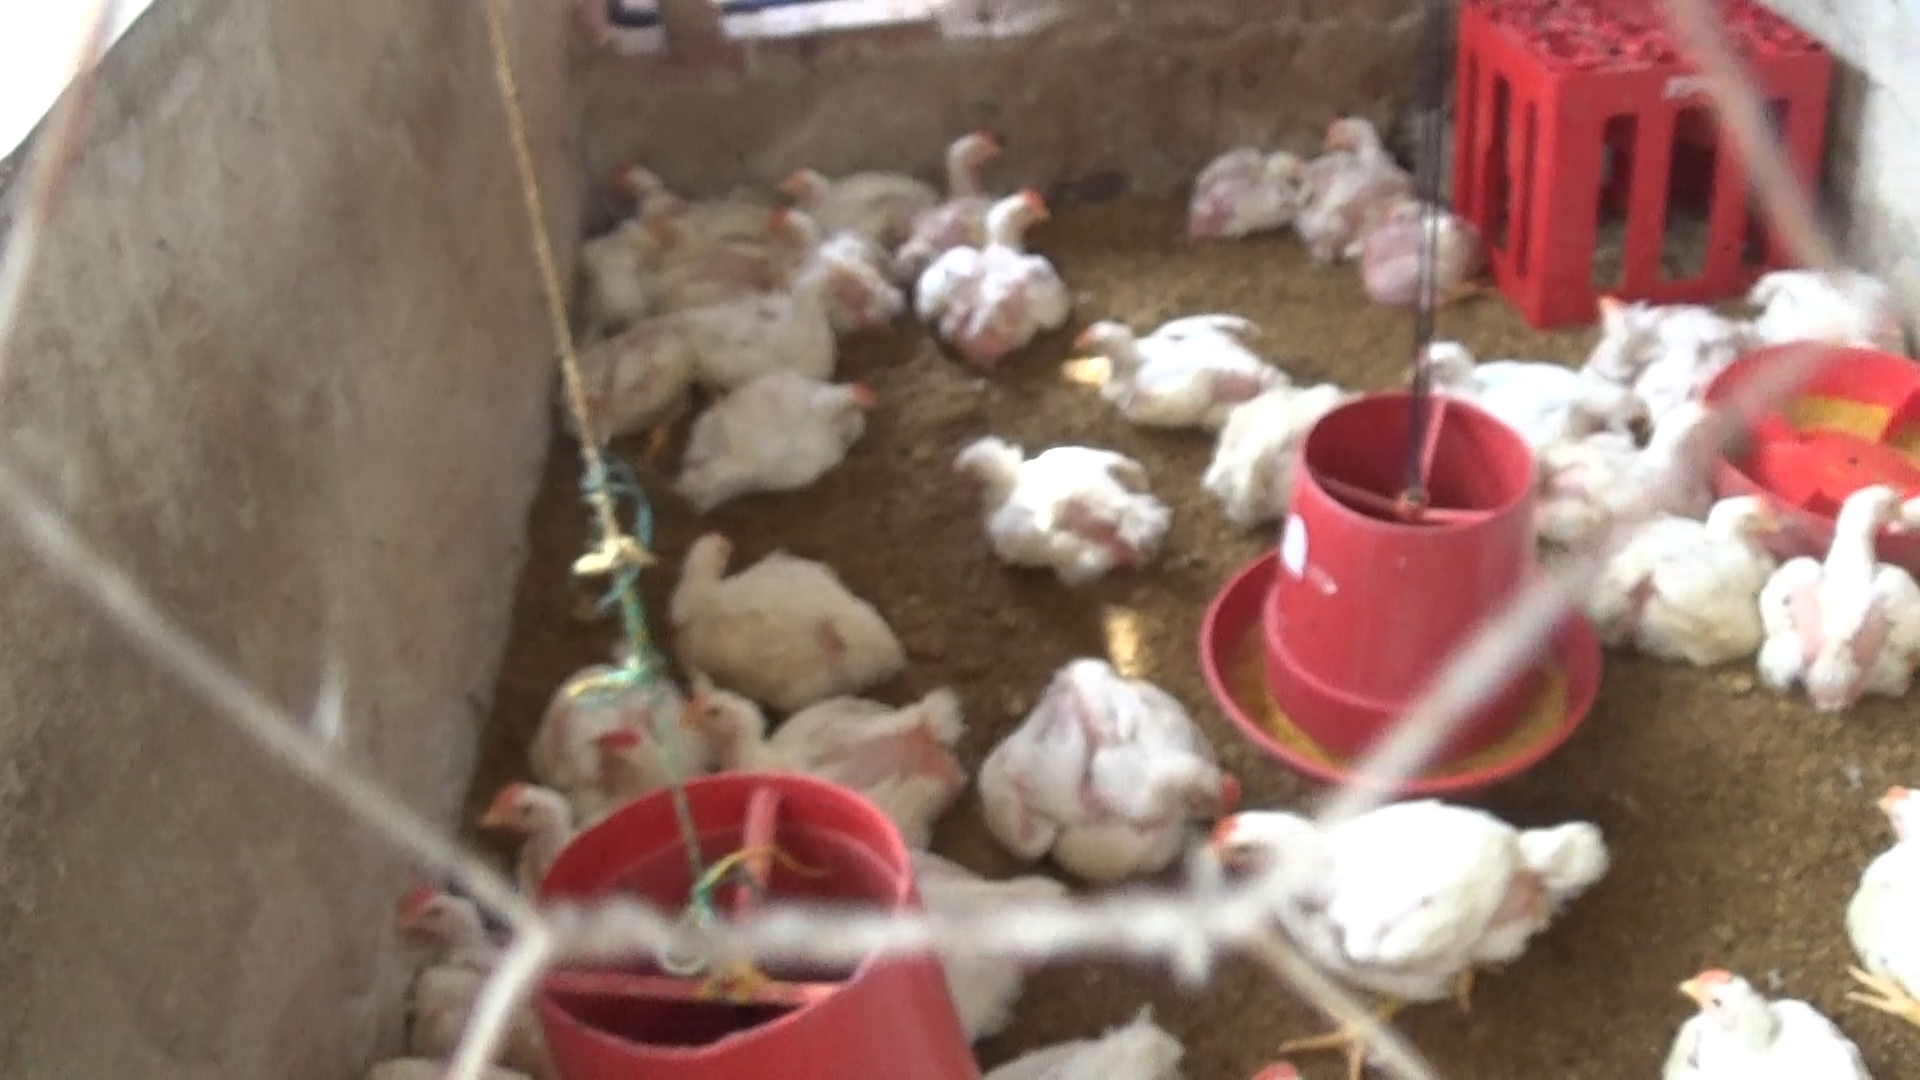Pollos: (1187, 775, 1613, 1080), (975, 640, 1253, 882), (662, 658, 988, 841), (658, 518, 918, 702), (1756, 458, 1920, 727), (1594, 495, 1807, 665), (951, 431, 1171, 582), (902, 185, 1073, 375), (1642, 945, 1880, 1080), (669, 371, 882, 501), (682, 229, 852, 386), (1832, 742, 1920, 1036), (1391, 338, 1597, 458), (1073, 307, 1294, 413), (615, 148, 796, 247), (372, 866, 524, 984), (574, 311, 696, 455), (1291, 102, 1422, 233), (777, 146, 940, 251), (1336, 187, 1468, 314), (1171, 132, 1316, 239), (893, 119, 1013, 241), (462, 766, 593, 868)
